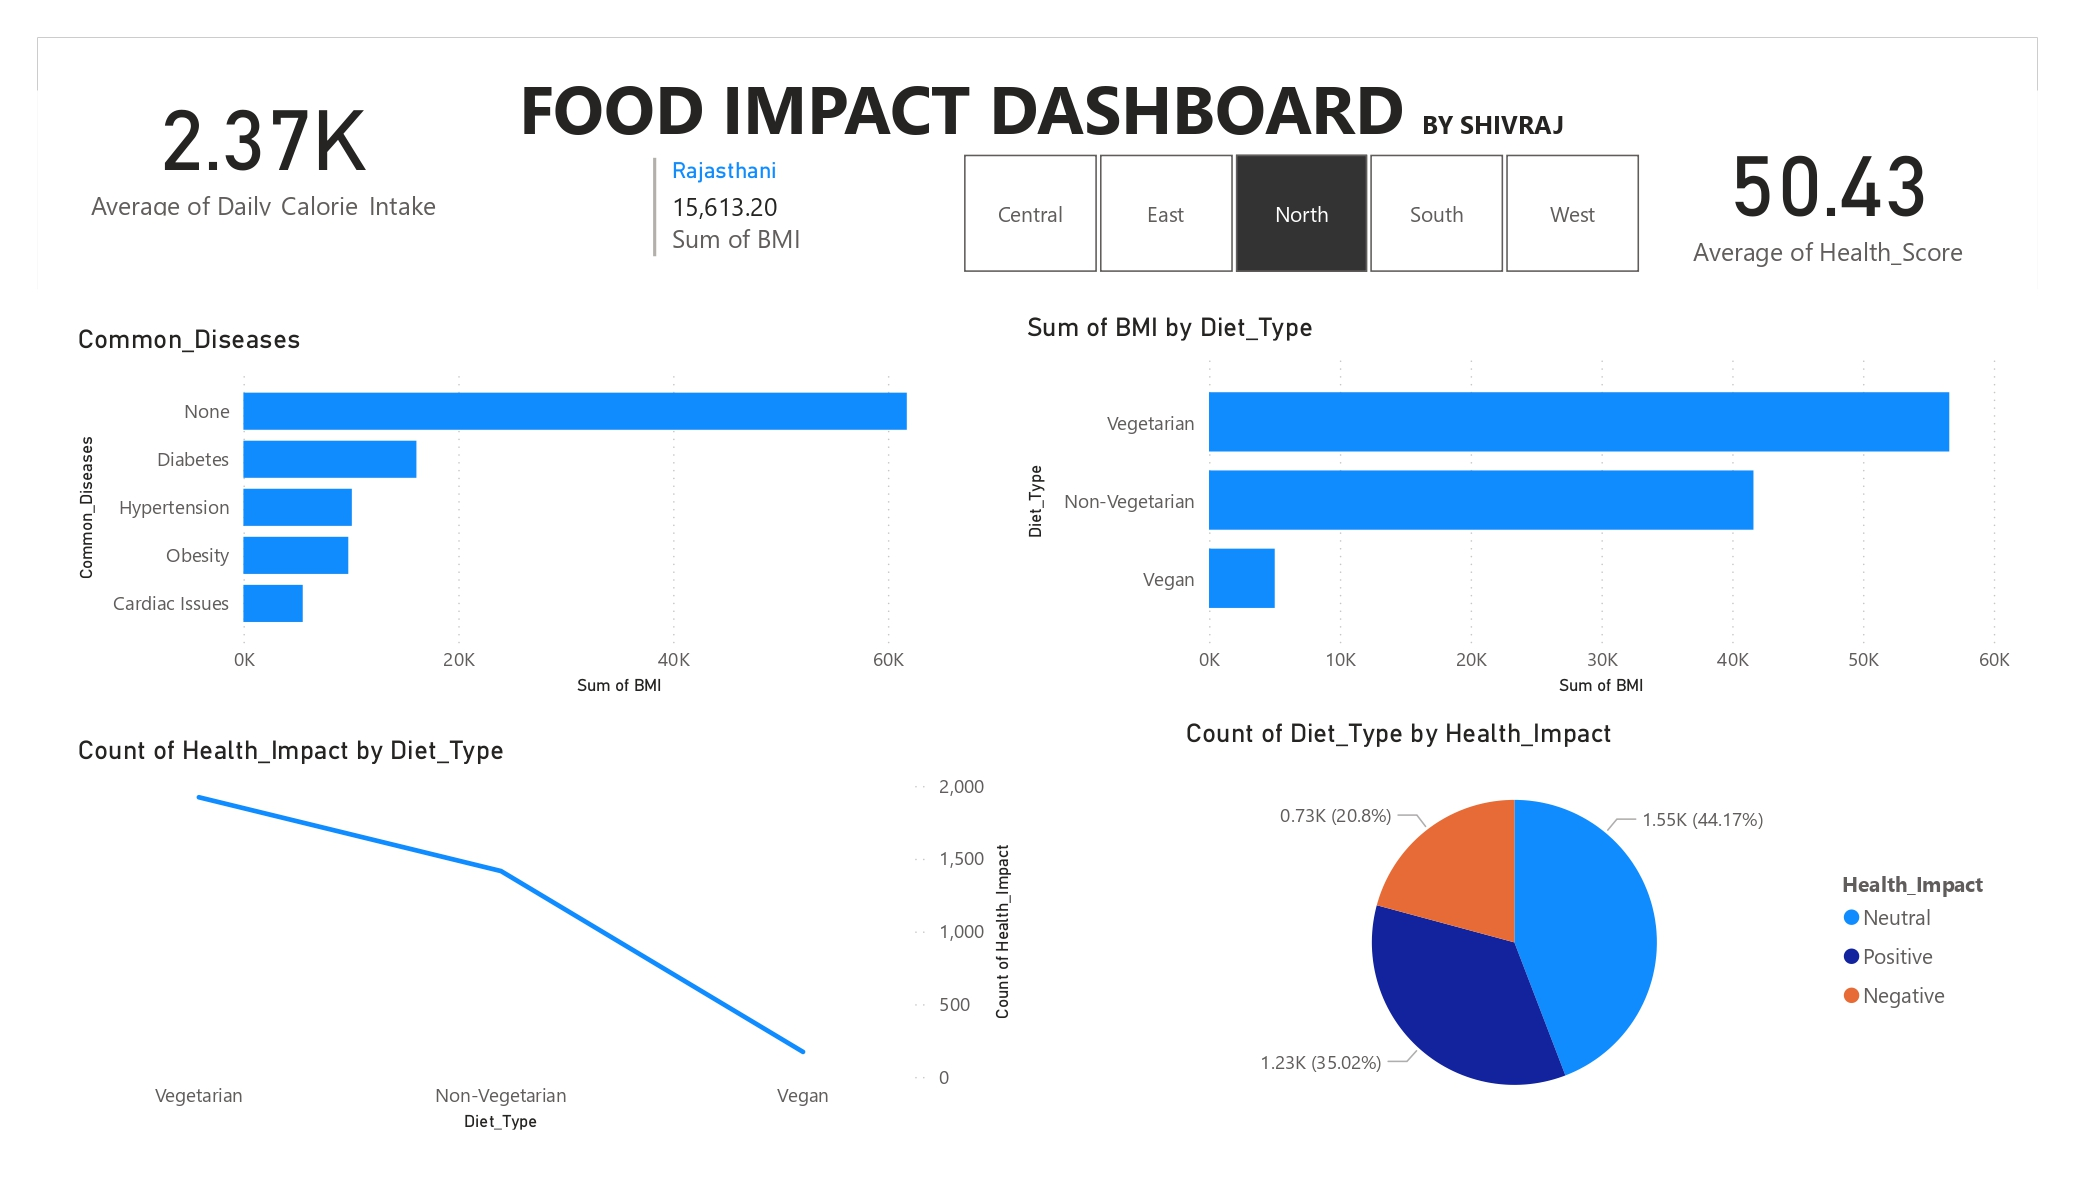

What the dashboard file says about the page in this screenshot:
{"tool":"powerbi","page":{"name":"DASHBOARD","canvas":[1280,720],"ordinal":0},"visuals":[{"type":"textbox","box":[303.1,11.3,946.3,56.3],"z":0},{"type":"card","fields":{"Values":["Avg(food_impact_india - food_impact_india.Health_Score)"]},"box":[1043.2,13.5,206.2,169],"z":1000},{"type":"lineChart","fields":{"Category":["food_impact_india - food_impact_india.Diet_Type"],"Y2":["CountNonNull(food_impact_india - food_impact_india.Health_Impact)"]},"box":[21.4,446.1,606.1,258],"z":2000},{"type":"pieChart","fields":{"Category":["food_impact_india - food_impact_india.Health_Impact"],"Y":["CountNonNull(food_impact_india - food_impact_india.Diet_Type)"]},"box":[730,434.9,537.4,269.3],"z":3000},{"type":"clusteredBarChart","fields":{"Category":["food_impact_india - food_impact_india.Diet_Type"],"Y":["Sum(food_impact_india - food_impact_india.BMI)"]},"box":[627.5,174.6,639.9,250.1],"z":4000},{"type":"slicer","fields":{"Values":["food_impact_india - food_impact_india.Region"]},"box":[566.7,67.6,482.2,89],"z":5000},{"type":"clusteredBarChart","title":"Common_Diseases","fields":{"Category":["food_impact_india - food_impact_india.Common_Diseases"],"Y":["Sum(food_impact_india - food_impact_india.BMI)"]},"box":[21.4,182.5,606.1,242.2],"z":6000},{"type":"card","fields":{"Values":["Avg(food_impact_india - food_impact_india.Daily_Calorie_Intake)"]},"box":[21.4,19.2,246.7,100.3],"z":7000},{"type":"multiRowCard","fields":{"Values":["Sum(food_impact_india - food_impact_india.BMI)","food_impact_india - food_impact_india.Primary_Cuisine"]},"box":[388.7,72.1,167.9,84.5],"z":8000}]}

Visuals, with their boxes in screenshot pixels (x1, y1, x2, y2):
textbox: 511, 55, 1990, 143
card - Avg(food_impact_india - food_impact_india.Health_Score): 1668, 59, 1990, 323
lineChart - food_impact_india - food_impact_india.Diet_Type x CountNonNull(food_impact_india - food_impact_india.Health_Impact): 71, 735, 1018, 1138
pieChart - food_impact_india - food_impact_india.Health_Impact x CountNonNull(food_impact_india - food_impact_india.Diet_Type): 1178, 717, 2018, 1138
clusteredBarChart - food_impact_india - food_impact_india.Diet_Type x Sum(food_impact_india - food_impact_india.BMI): 1018, 310, 2018, 701
slicer - food_impact_india - food_impact_india.Region: 923, 143, 1676, 282
"Common_Diseases" clusteredBarChart: 71, 323, 1018, 701
card - Avg(food_impact_india - food_impact_india.Daily_Calorie_Intake): 71, 68, 456, 224
multiRowCard - Sum(food_impact_india - food_impact_india.BMI) x food_impact_india - food_impact_india.Primary_Cuisine: 645, 150, 907, 282
